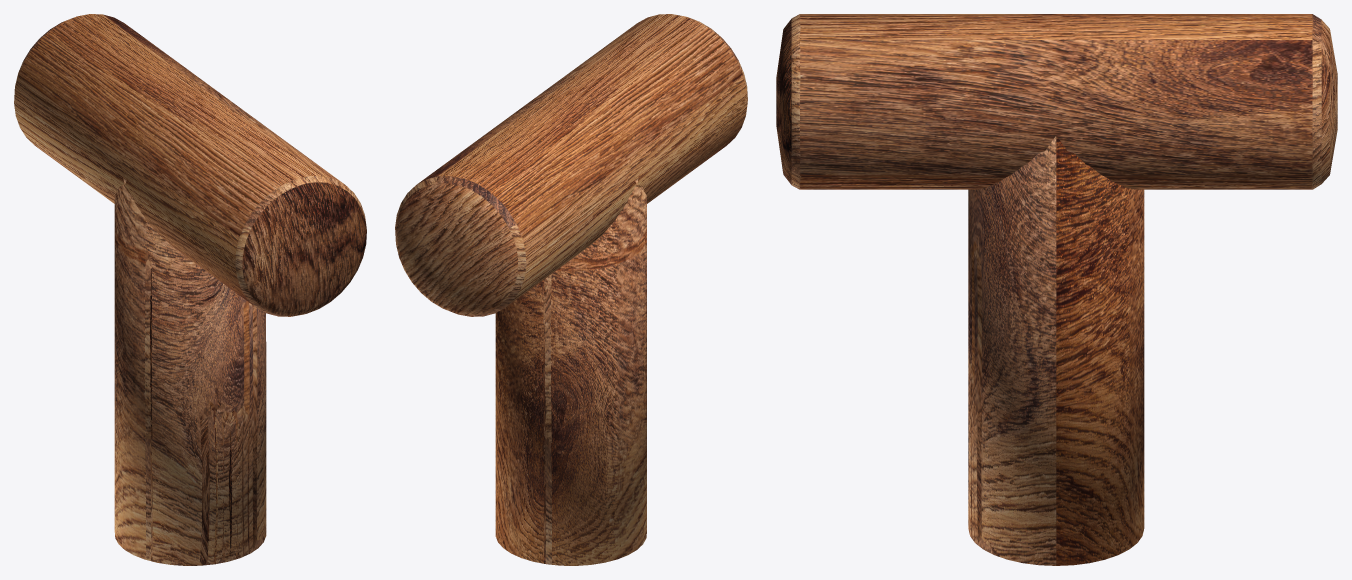
File: Lever.fbx
3 views of the same model, side by side, from view 1: azimuth 30°, elevation 25°; view 2: azimuth 150°, elevation 25°; view 3: azimuth 270°, elevation 25° (orthographic). The views are drawn at different scales.
Visible parts, largest first — view 1: Lever, Cylinder; view 2: Lever, Cylinder; view 3: Lever, Cylinder.
Boxes of the visible parts, <box> form: Lever: <box>14,14,366,316</box>; Cylinder: <box>114,178,266,565</box>; Lever: <box>395,14,747,316</box>; Cylinder: <box>495,178,646,565</box>; Lever: <box>776,14,1337,189</box>; Cylinder: <box>968,136,1144,565</box>.
Bounding box in the file's own units: 6.01 × 19.07 × 19.15.
1 material, 1 textured.
